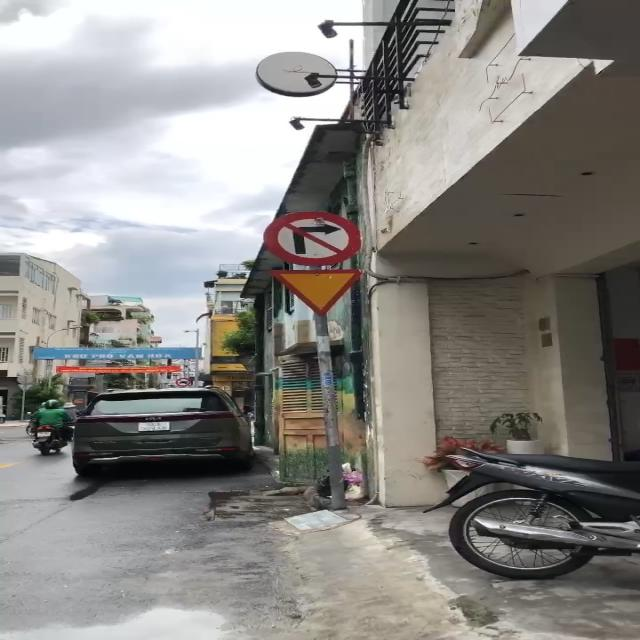Bien bao cam re phai: (258, 209, 360, 264)
Bien bao giao nhau voi duong uu tien: (258, 264, 374, 316)
